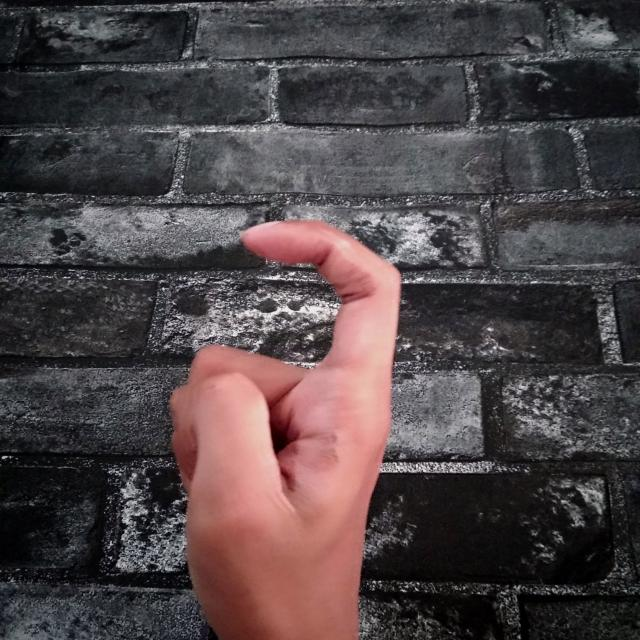X: (164, 210, 409, 640)
